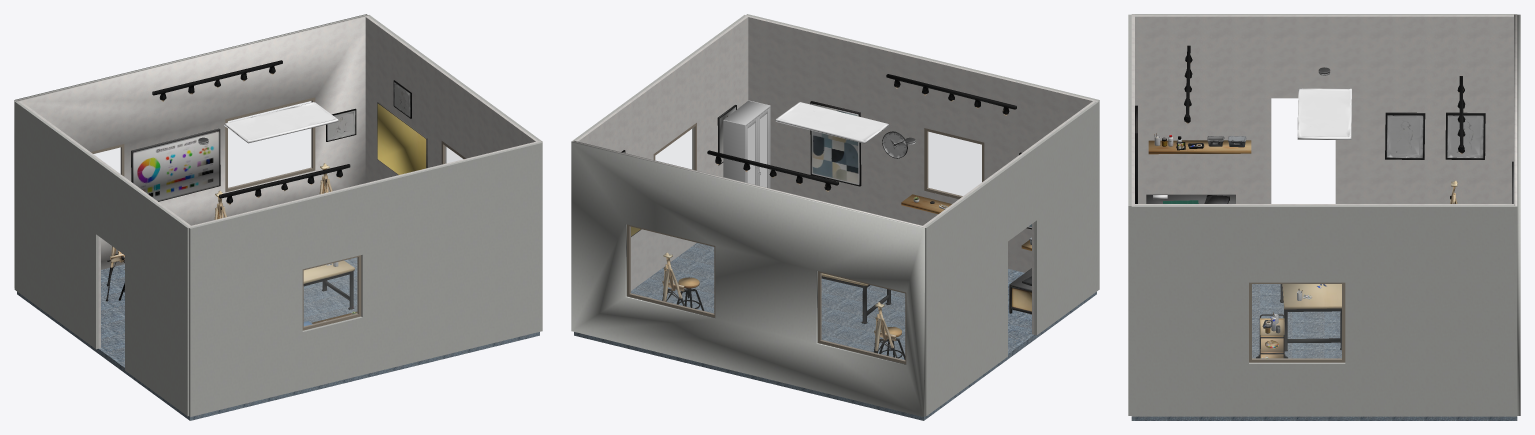
The model's file is scene_named.glb.
3 renders of one model, left to right at view 1: azimuth 30°, elevation 25°; view 2: azimuth 150°, elevation 25°; view 3: azimuth 270°, elevation 25°, orthographic. The views are drawn at different scales.
Visible parts, largest first — view 1: south_wall_exterior_art_studio/south_wall_exterior_art_studi, west_wall_exterior_art_studio/west_wall_exterior_art_studio/, north_wall_art_studio/north_wall_art_studio/geometry_0, east_wall_art_studio/east_wall_art_studio/geometry_0, floor_art_studio, poster_2, window_2_art_studio/window_2_art_studio/glass, window_4_art_studio/window_4_art_studio/glass, pinboard_0, ceiling_panel_light_0, window_2_art_studio/window_2_art_studio/frame, worktable_0 (+9 smaller); view 2: north_wall_exterior_art_studio/north_wall_exterior_art_studi, south_wall_art_studio/south_wall_art_studio/geometry_0, west_wall_exterior_art_studio/west_wall_exterior_art_studio/, east_wall_art_studio/east_wall_art_studio/geometry_0, floor_art_studio, window_1_art_studio/window_1_art_studio/glass, window_2_art_studio/window_2_art_studio/glass, window_4_art_studio/window_4_art_studio/glass, poster_0, ceiling_panel_light_0, supply_cabinet_0/E_body_1.006, window_2_art_studio/window_2_art_studio/frame (+17 smaller); view 3: east_wall_exterior_art_studio/east_wall_exterior_art_studio/, west_wall_art_studio/west_wall_art_studio/geometry_0, window_3_art_studio/window_3_art_studio/glass, floor_art_studio, ceiling_panel_light_0, worktable_0, sketch_print_2, sketch_print_3, north_wall_exterior_art_studio/north_wall_exterior_art_studi, south_wall_exterior_art_studio/south_wall_exterior_art_studi, window_3_art_studio/window_3_art_studio/frame, floating_shelf_1 (+8 smaller).
Part boxes in pixels (x1,y1,x2,y2): south_wall_exterior_art_studio/south_wall_exterior_art_studi: (189,142,542,416); west_wall_exterior_art_studio/west_wall_exterior_art_studio/: (14,101,188,416); north_wall_art_studio/north_wall_art_studio/geometry_0: (16,15,368,269); east_wall_art_studio/east_wall_art_studio/geometry_0: (365,16,537,182); floor_art_studio: (17,257,539,420); poster_2: (131,128,220,201); window_2_art_studio/window_2_art_studio/glass: (228,101,311,187); window_4_art_studio/window_4_art_studio/glass: (304,257,357,326); pinboard_0: (377,102,427,174); ceiling_panel_light_0: (224,102,338,143); window_2_art_studio/window_2_art_studio/frame: (225,97,315,192); worktable_0: (303,260,354,309); north_wall_exterior_art_studio/north_wall_exterior_art_studi: (571,142,924,416); south_wall_art_studio/south_wall_art_studio/geometry_0: (745,15,1097,272); west_wall_exterior_art_studio/west_wall_exterior_art_studio/: (925,101,1099,416); east_wall_art_studio/east_wall_art_studio/geometry_0: (576,16,748,290); floor_art_studio: (574,243,1096,420); window_1_art_studio/window_1_art_studio/glass: (821,273,904,360); window_2_art_studio/window_2_art_studio/glass: (630,227,713,313); window_4_art_studio/window_4_art_studio/glass: (928,132,981,195); poster_0: (810,101,861,186); ceiling_panel_light_0: (775,102,888,143); supply_cabinet_0/E_body_1.006: (723,120,745,182); window_2_art_studio/window_2_art_studio/frame: (627,224,715,317); east_wall_exterior_art_studio/east_wall_exterior_art_studio/: (1131,205,1517,416); west_wall_art_studio/west_wall_art_studio/geometry_0: (1135,15,1513,203); window_3_art_studio/window_3_art_studio/glass: (1252,284,1341,358); floor_art_studio: (1131,284,1517,420); ceiling_panel_light_0: (1297,88,1351,139); worktable_0: (1280,284,1341,351); sketch_print_2: (1385,112,1425,159); sketch_print_3: (1445,112,1485,159); north_wall_exterior_art_studio/north_wall_exterior_art_studi: (1517,14,1520,415); south_wall_exterior_art_studio/south_wall_exterior_art_studi: (1128,14,1131,415); window_3_art_studio/window_3_art_studio/frame: (1249,282,1345,362); floating_shelf_1: (1148,140,1251,154).
Size of the model in its own units: 7.1 by 3.7 by 6.1.
Materials: 56 (48 with a texture image).
